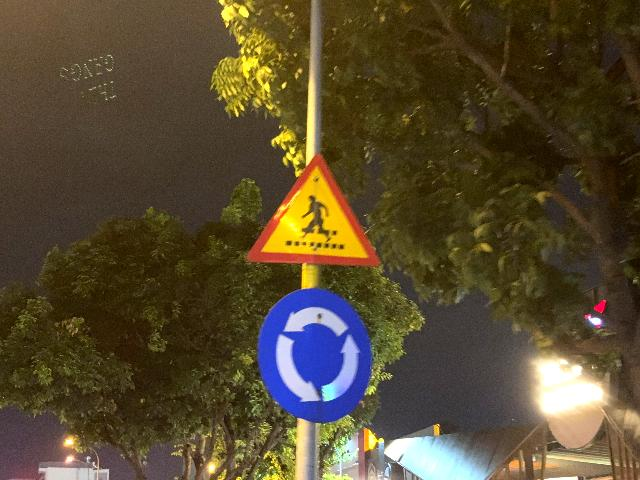duong-nguoi-di-bo-cat-ngang: (247, 151, 380, 267)
noi-giao-nhau-chay-theo-vong-xuyen: (258, 286, 374, 423)
